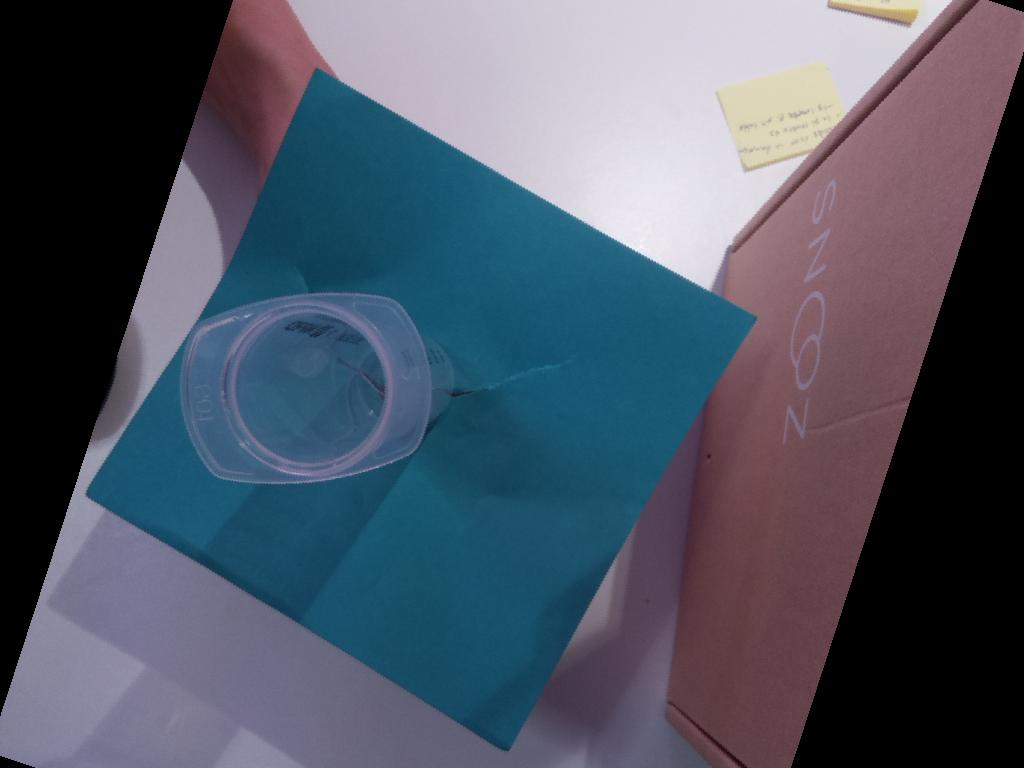clean: (178, 289, 434, 482)
